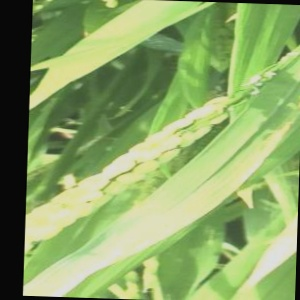Leaf_Blast: (254, 76, 300, 141)
